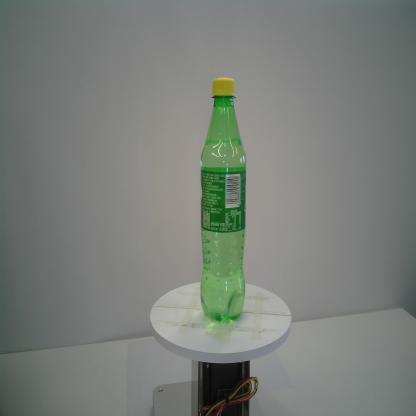Drink: (200, 77, 248, 323)
